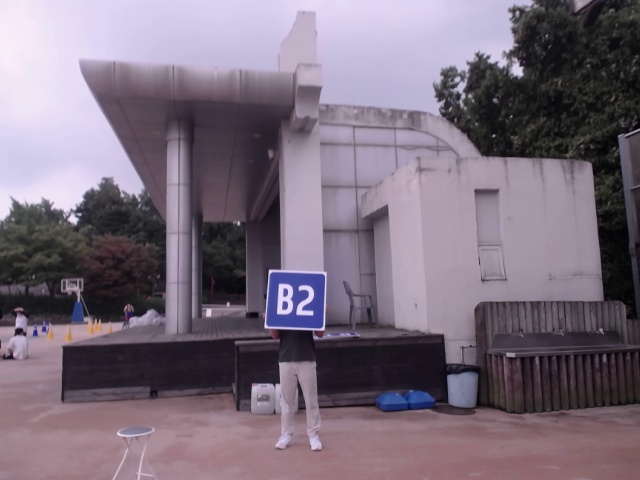delivery_b2: (266, 269, 327, 330)
